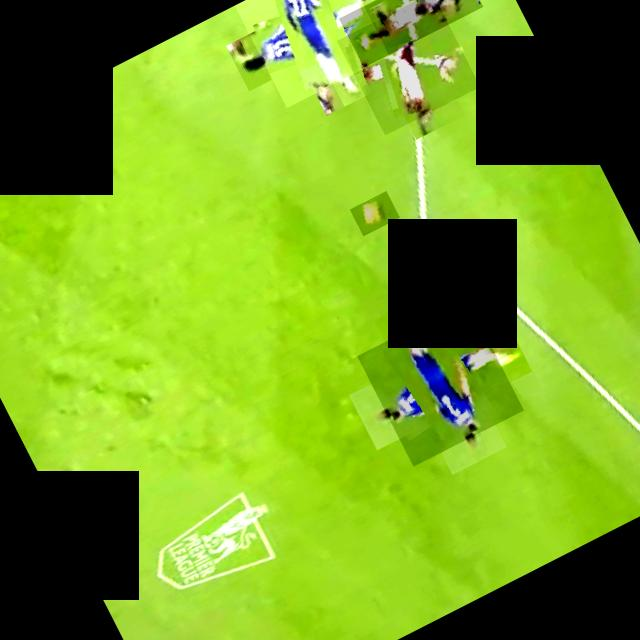ball: (350, 190, 400, 235)
soccer-player: (357, 298, 524, 466), (337, 0, 480, 134), (234, 0, 389, 107), (339, 0, 483, 66)
